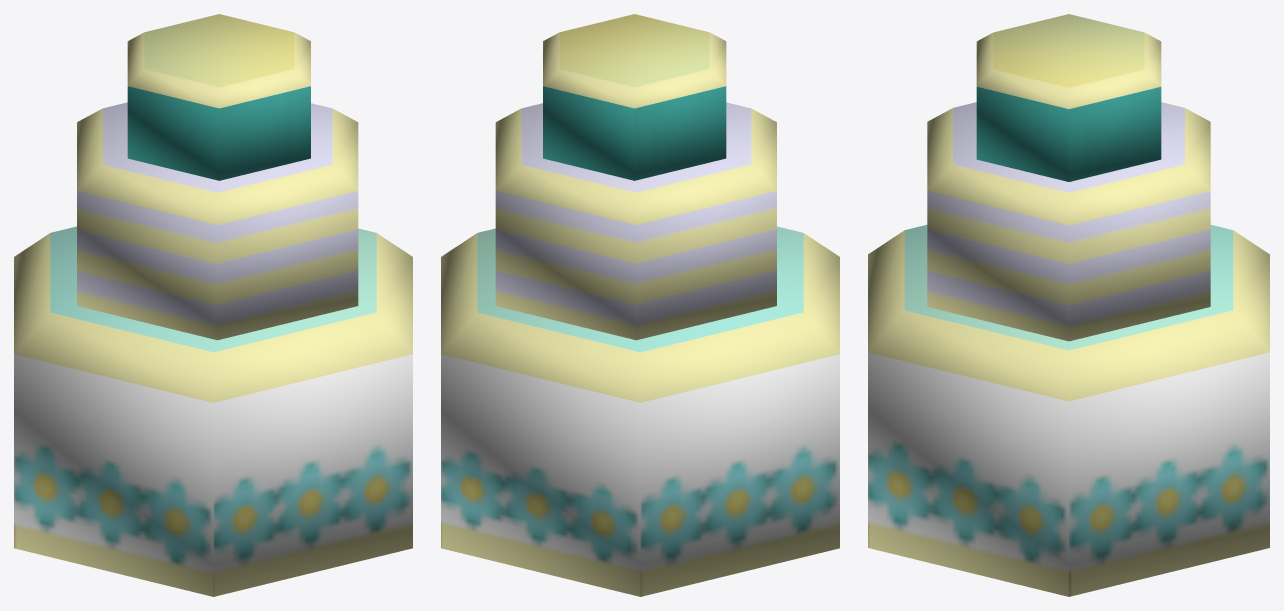
File: Wedding_Cake_C.FBX
3 views of the same model, side by side, from view 1: azimuth 30°, elevation 25°; view 2: azimuth 150°, elevation 25°; view 3: azimuth 270°, elevation 25° (orthographic).
Parts seen in each view (by area): view 1: Wedding_Cake_A; view 2: Wedding_Cake_A; view 3: Wedding_Cake_A.
Boxes of the visible parts, <box> form: Wedding_Cake_A: <box>14,14,412,596</box>; Wedding_Cake_A: <box>441,14,839,596</box>; Wedding_Cake_A: <box>868,14,1269,596</box>.
Size of the model in its own units: 102 by 110 by 88.51.
